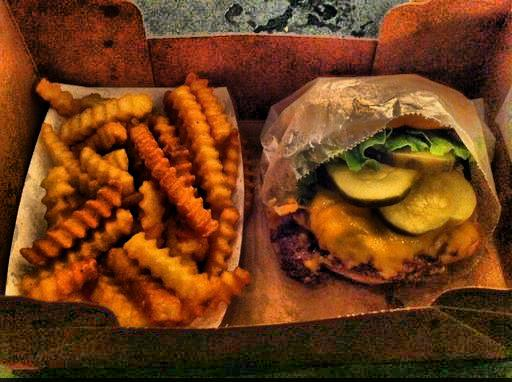burger: (262, 79, 511, 294)
